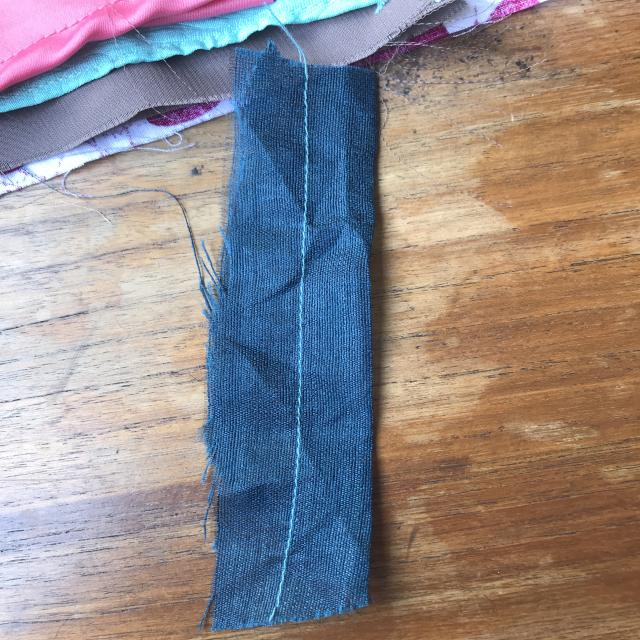good: (293, 128, 318, 240)
